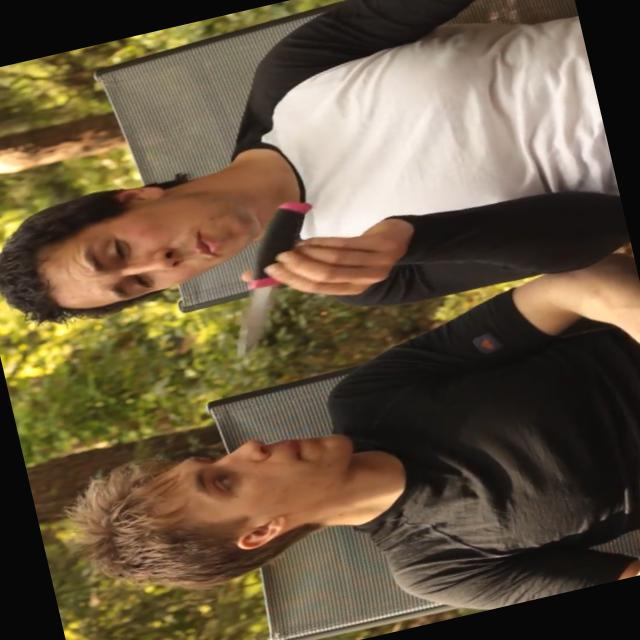knife: (189, 185, 350, 368)
